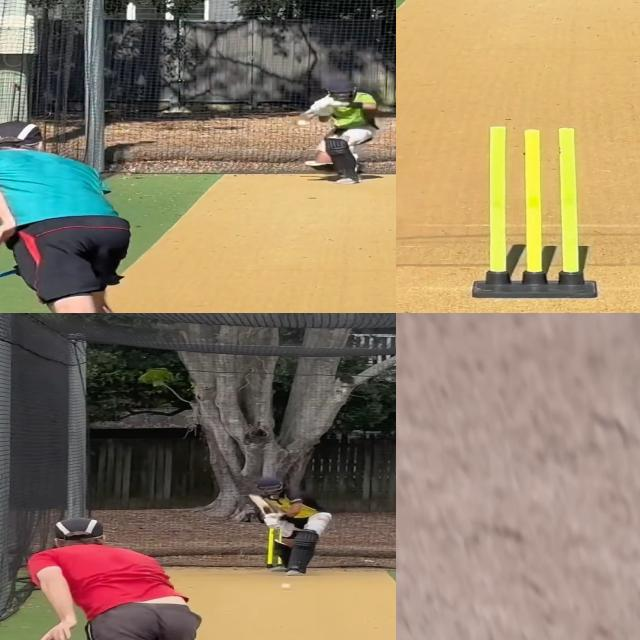Cricket ball: (282, 582, 296, 591), (295, 119, 310, 127)
Stumps: (469, 124, 603, 298)
